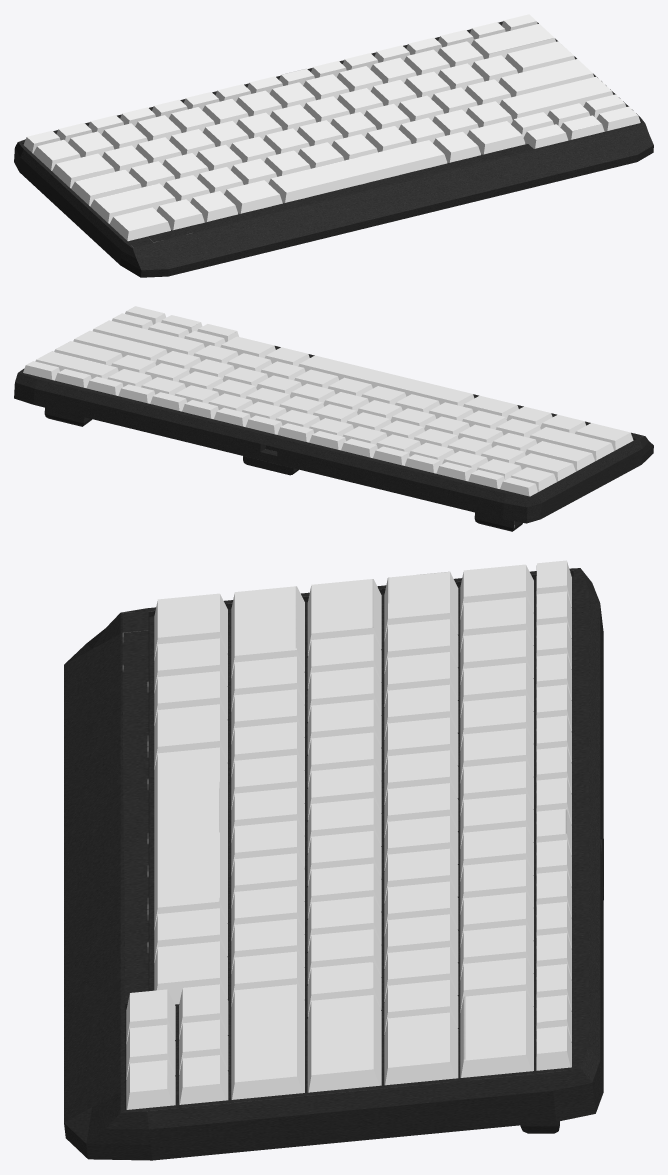
Rendered from Keyboard1.fbx.
The picture shows the model from 3 angles, top to bottom: view 1: azimuth 30°, elevation 25°; view 2: azimuth 150°, elevation 25°; view 3: azimuth 270°, elevation 25°; orthographic projection. The views are drawn at different scales.
Parts seen in each view (by area): view 1: keyboard1; view 2: keyboard1; view 3: keyboard1.
Part boxes in pixels (bbox=[...]): keyboard1: bbox=[14, 14, 653, 277]; keyboard1: bbox=[14, 306, 653, 531]; keyboard1: bbox=[64, 560, 603, 1160].
Bounding box in the file's own units: 232 × 22.14 × 104.
